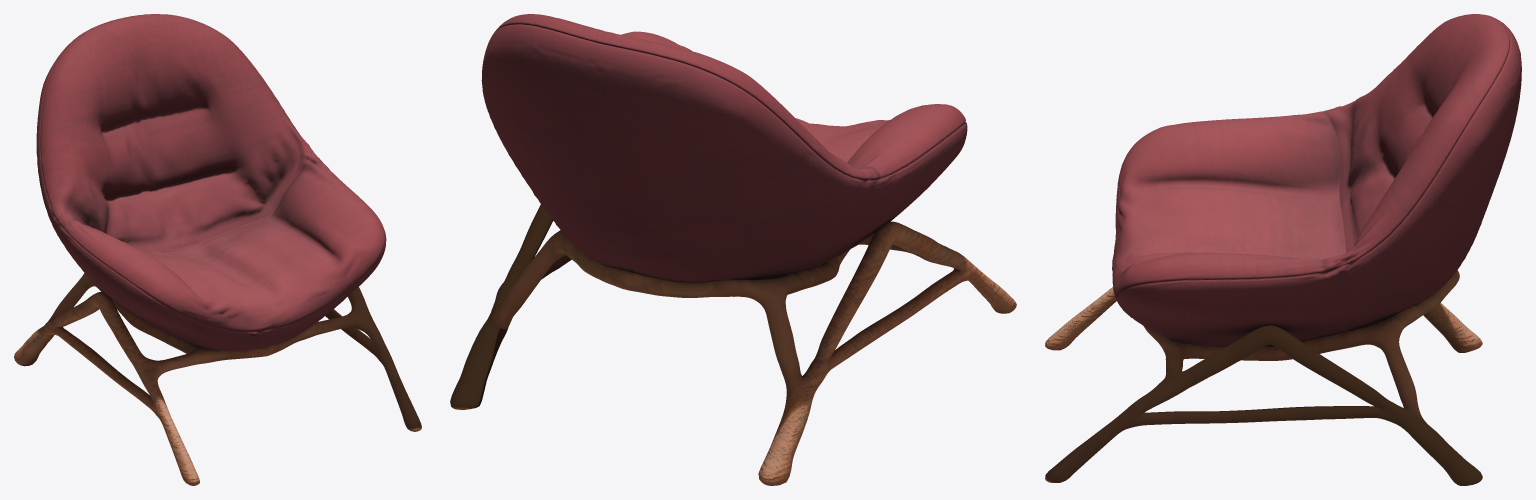
The model's file is chairs-portfolio_01-v1.glb.
3 renders of one model, left to right at view 1: azimuth 30°, elevation 25°; view 2: azimuth 150°, elevation 25°; view 3: azimuth 270°, elevation 25°, orthographic. The views are drawn at different scales.
Parts seen in each view (by area): view 1: 01; view 2: 01; view 3: 01.
Part boxes in pixels (box(x1,y1,x2,y2)): 01: box(14, 14, 421, 485); 01: box(450, 14, 1016, 485); 01: box(1045, 14, 1521, 485).
Bounding box in the file's own units: 0.9284 × 1.03 × 1.18.
Materials: 1 (1 with a texture image).
